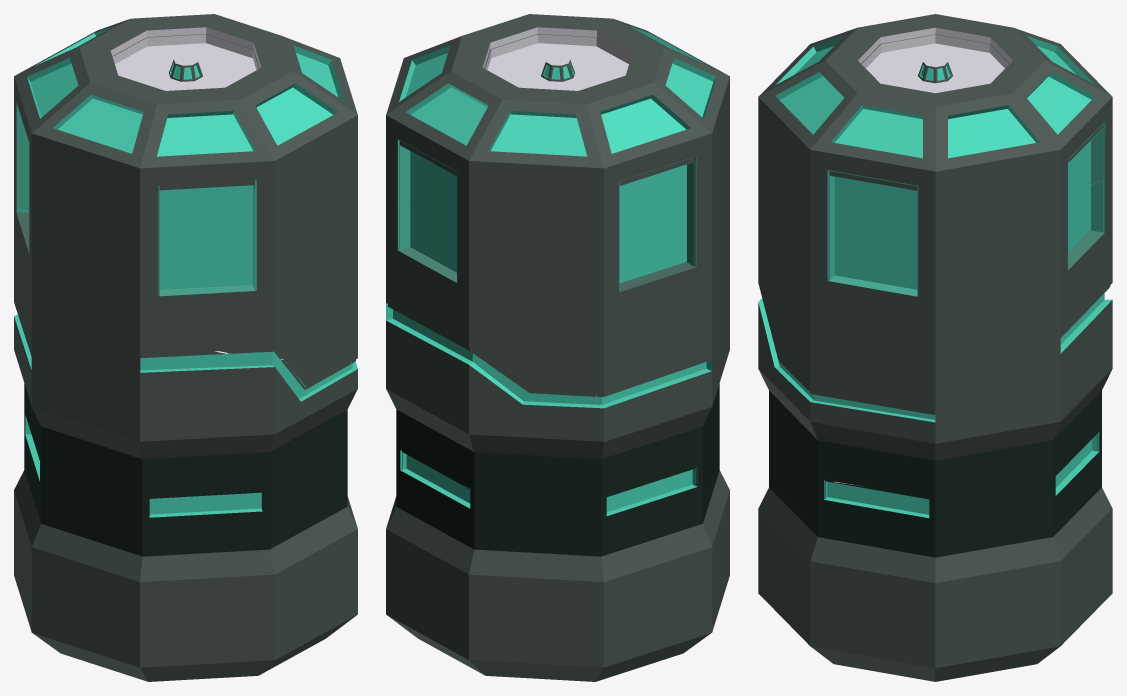
File: BarrelDungeon.fbx
The picture shows the model from 3 angles, left to right: view 1: azimuth 30°, elevation 25°; view 2: azimuth 150°, elevation 25°; view 3: azimuth 270°, elevation 25°; orthographic projection.
Visible parts, largest first — view 1: Barrel Dungeon, Barrel Dungeon_cell.001, Barrel Dungeon_cell.002; view 2: Barrel Dungeon, Barrel Dungeon_cell.001, Barrel Dungeon_cell, Barrel Dungeon_cell.002; view 3: Barrel Dungeon, Barrel Dungeon_cell.001, Barrel Dungeon_cell.
Boxes of the visible parts, x1,y1,x2,y2 form: Barrel Dungeon: [14, 14, 357, 681]; Barrel Dungeon_cell.001: [18, 34, 282, 359]; Barrel Dungeon_cell.002: [18, 209, 350, 516]; Barrel Dungeon: [386, 14, 729, 681]; Barrel Dungeon_cell.001: [399, 34, 695, 266]; Barrel Dungeon_cell: [388, 201, 595, 488]; Barrel Dungeon_cell.002: [596, 358, 710, 496]; Barrel Dungeon: [758, 14, 1112, 681]; Barrel Dungeon_cell.001: [829, 34, 1103, 280]; Barrel Dungeon_cell: [809, 180, 1110, 499].
Size of the model in its own units: 54.99 by 96.08 by 54.99.
